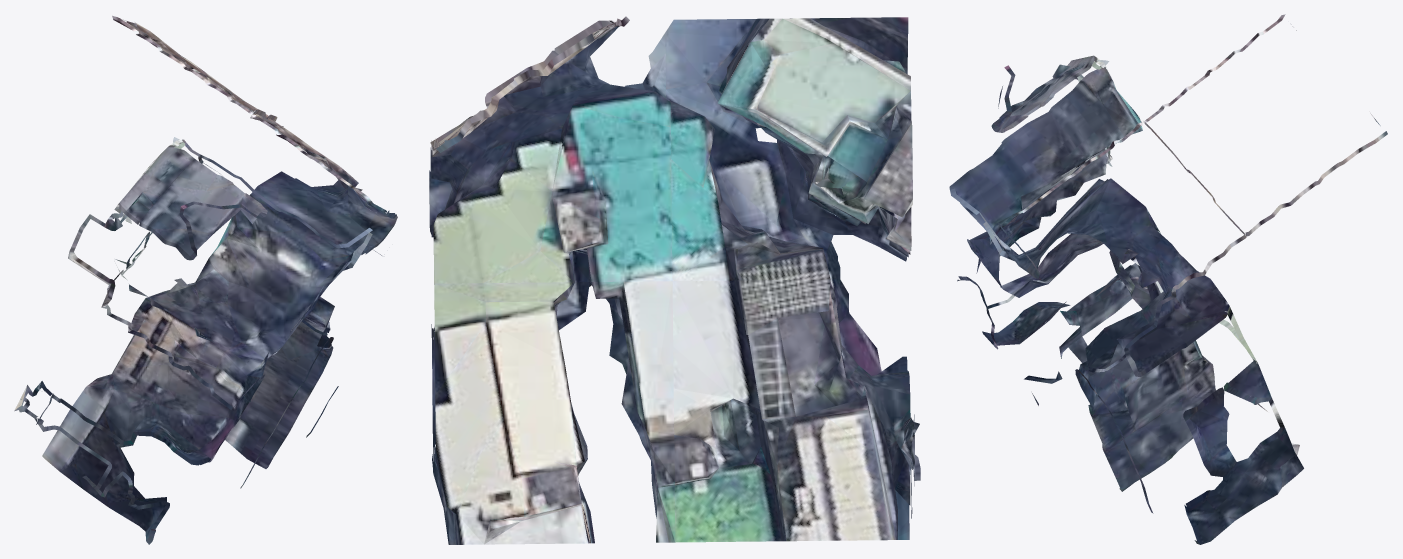
3 views of the same model, side by side, from view 1: azimuth 30°, elevation 25°; view 2: azimuth 150°, elevation 25°; view 3: azimuth 270°, elevation 25° (orthographic). The views are drawn at different scales.
Bounding box in the file's own units: 44.03 × 50.18 × 44.1.
Materials: 1 (1 with a texture image).
